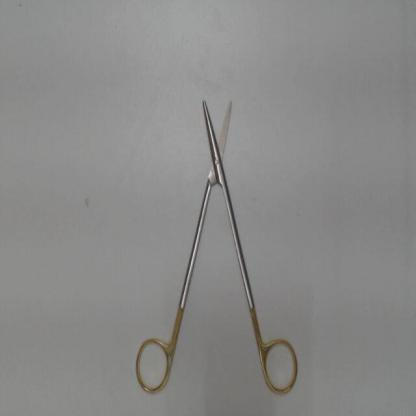7 Metzenbaum Scissors: (132, 89, 303, 404)
